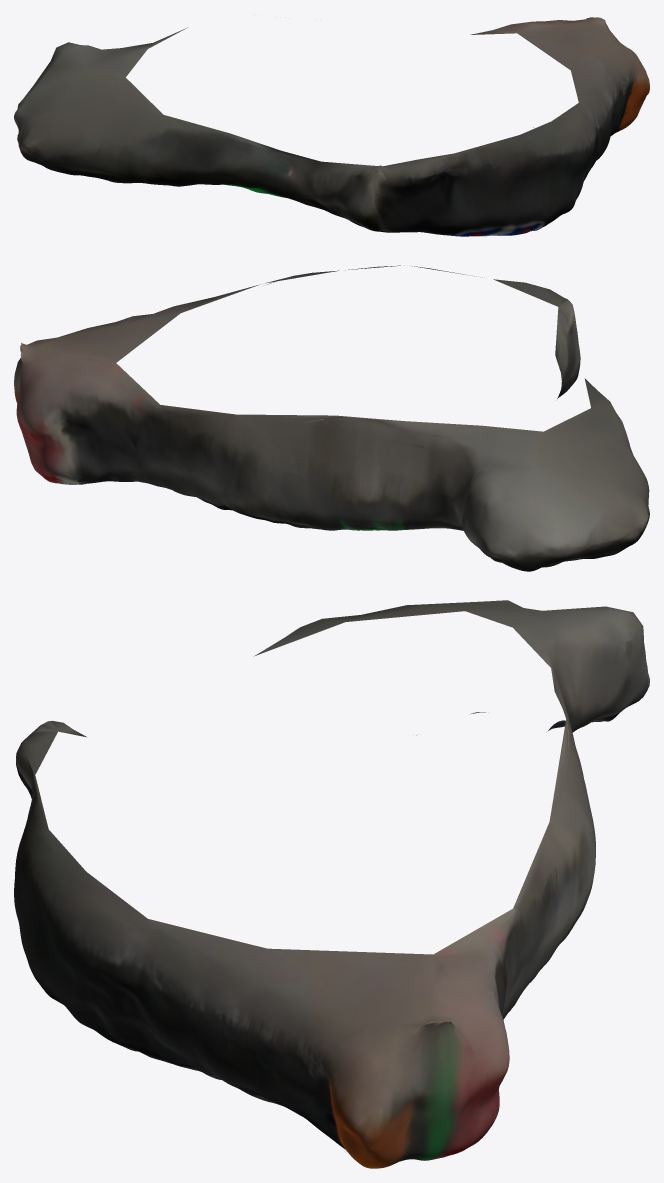
3 views of the same model, one above another, from view 1: azimuth 30°, elevation 25°; view 2: azimuth 150°, elevation 25°; view 3: azimuth 270°, elevation 25° (orthographic). The views are drawn at different scales.
Bounding box in the file's own units: 0.8495 × 0.2151 × 0.5298.
1 material, 1 textured.
